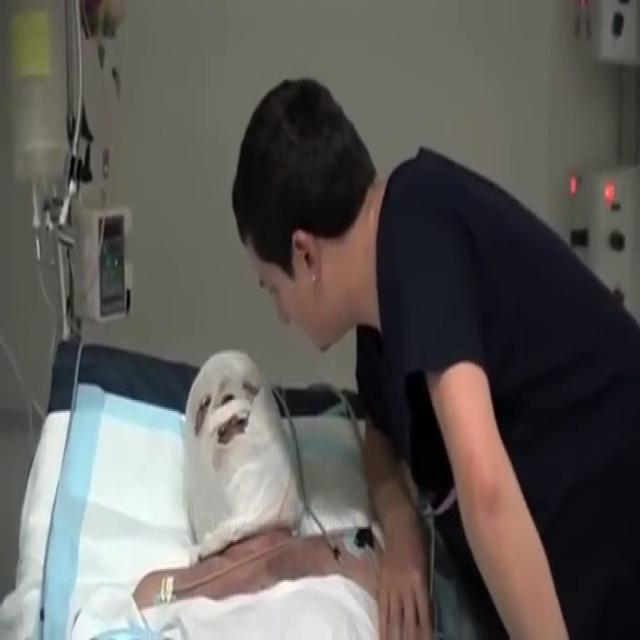monitor: (70, 198, 132, 324)
nurse: (230, 75, 639, 638)
patient: (154, 357, 302, 640)
